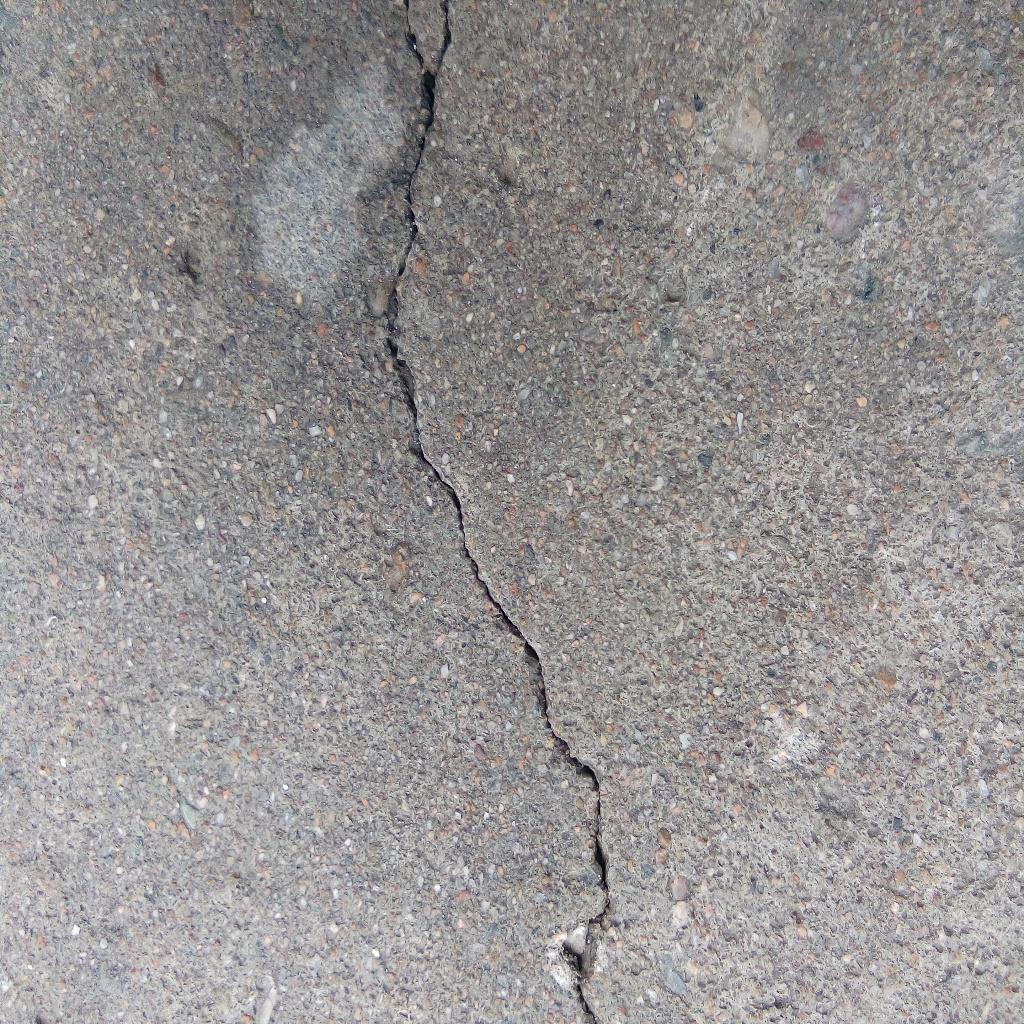Crack: (382, 1, 612, 1024)
